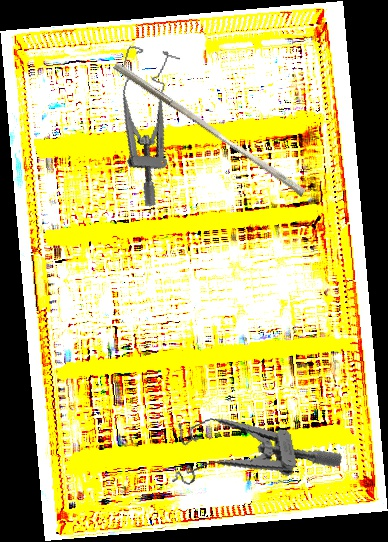Pusher: (107, 61, 311, 198)
Speculum: (160, 394, 344, 498), (90, 40, 195, 210)
